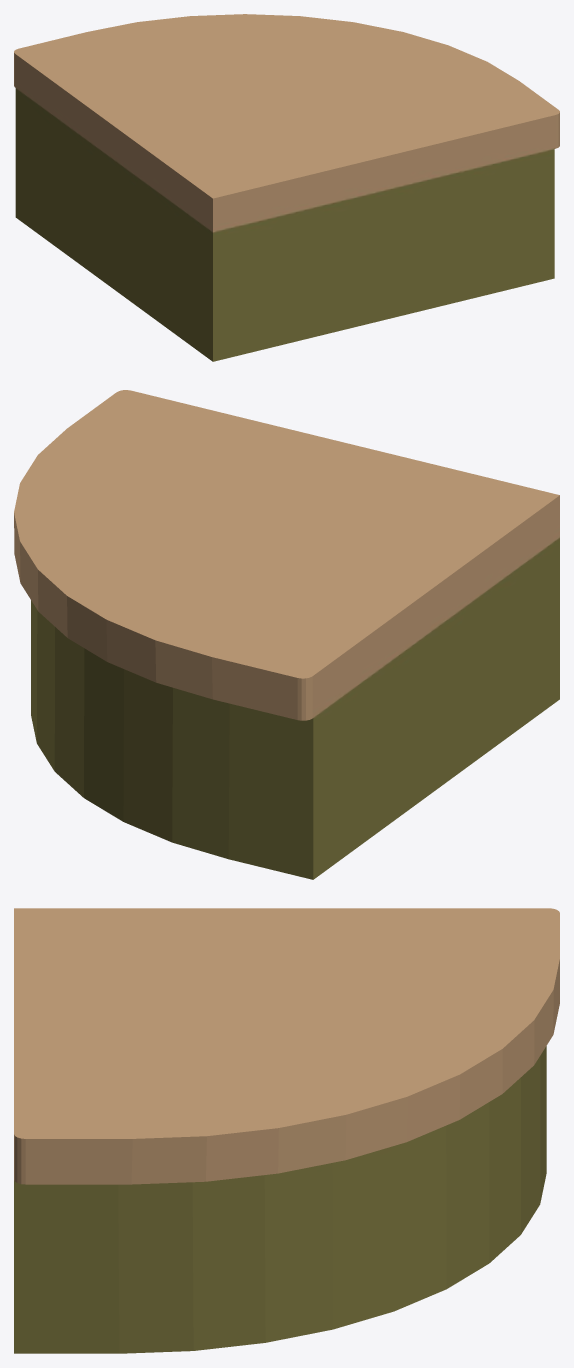
Rendered from CounterCurve.fbx.
The picture shows the model from 3 angles, top to bottom: view 1: azimuth 30°, elevation 25°; view 2: azimuth 150°, elevation 25°; view 3: azimuth 270°, elevation 25°; orthographic projection. The views are drawn at different scales.
Visible parts, largest first — view 1: Counter.005; view 2: Counter.005; view 3: Counter.005.
Part boxes in pixels (left/top/right/bottom): Counter.005: left=14, top=14, right=559, bottom=361; Counter.005: left=14, top=390, right=559, bottom=879; Counter.005: left=14, top=908, right=559, bottom=1353.
Size of the model in its own units: 123 by 54.8 by 123.
